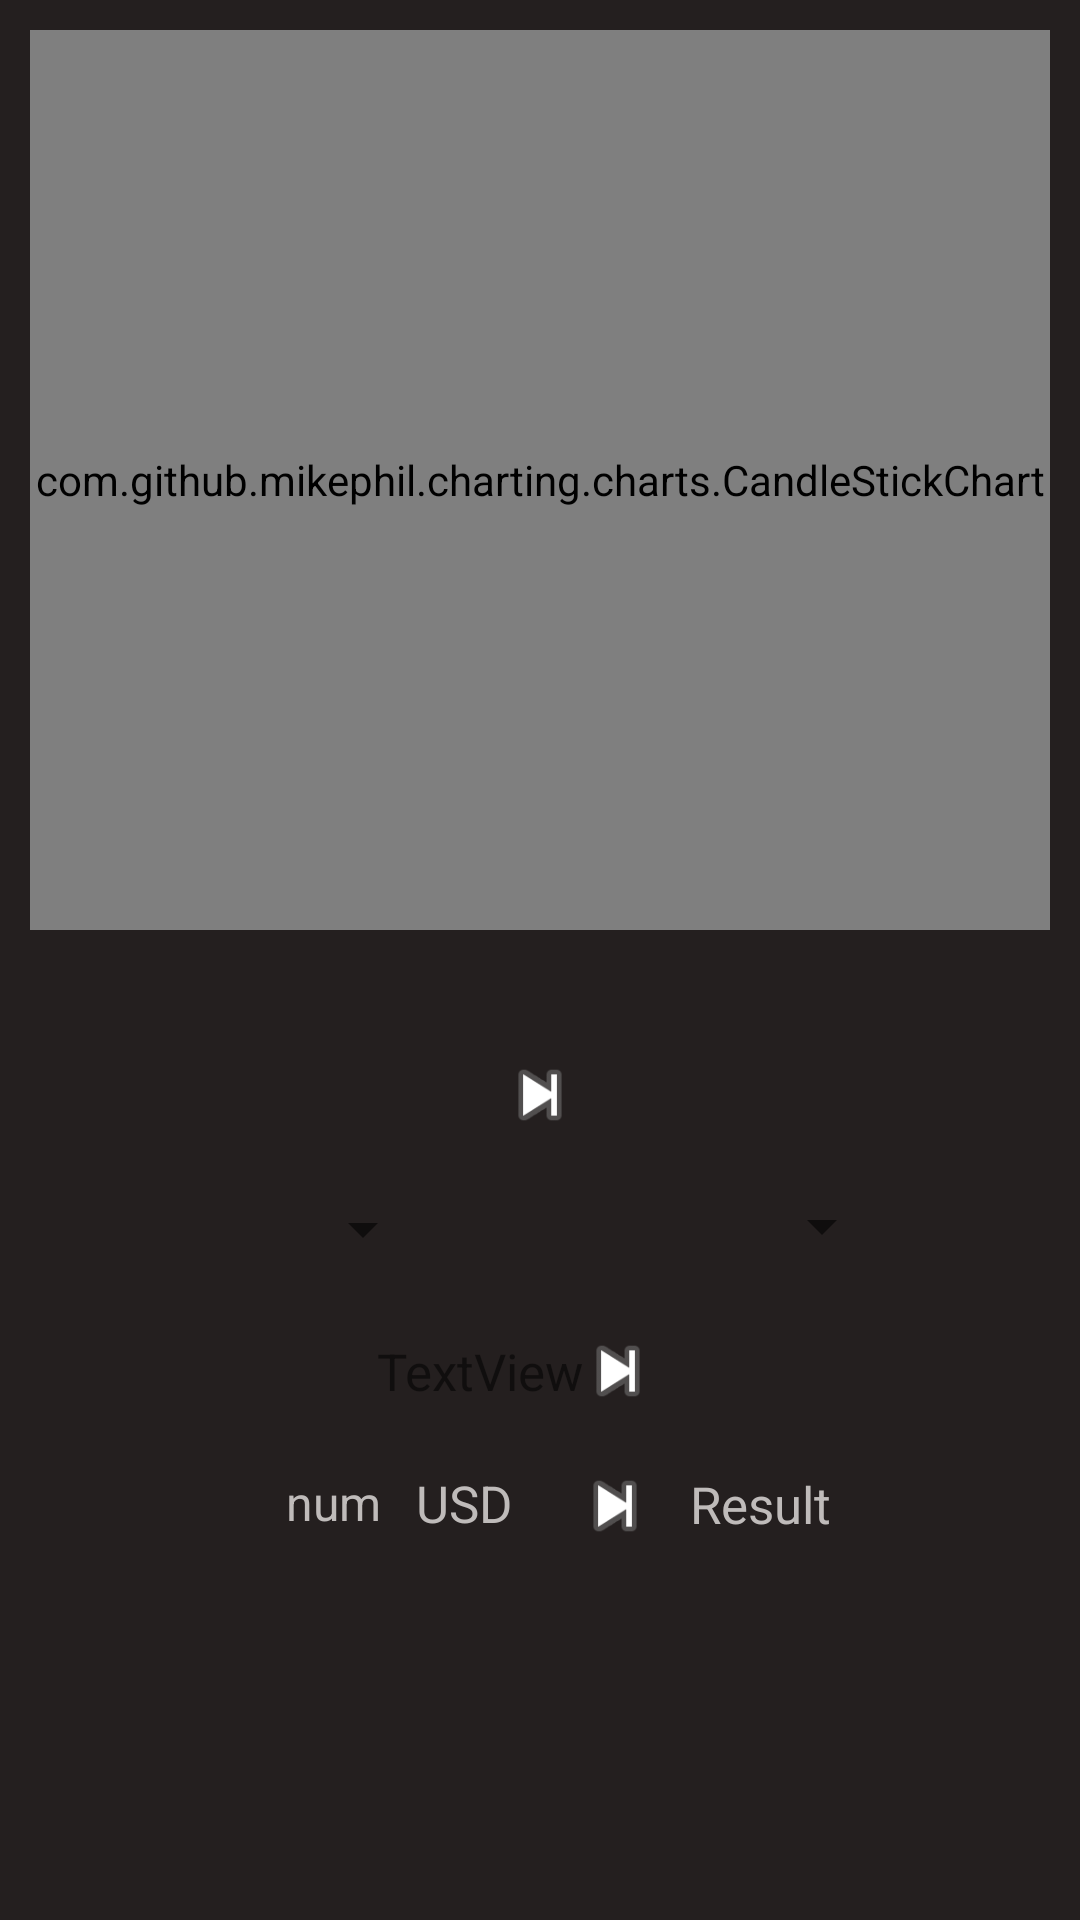

Icon click points for this 1080 x 1920 phone screenshot, format [x,y]:
next: [540,1095], [618,1371], [615,1506]
